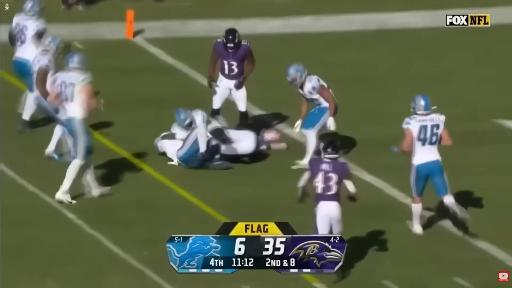Helmet: (38, 36, 63, 59), (287, 63, 307, 86), (154, 132, 175, 152), (223, 28, 241, 50), (411, 95, 431, 114), (321, 140, 340, 158), (66, 52, 86, 69), (41, 35, 62, 51), (175, 108, 191, 127), (22, 0, 41, 16), (154, 132, 169, 152), (45, 37, 61, 46)
Jersey: (403, 114, 445, 165), (52, 70, 92, 118), (309, 158, 350, 203), (12, 13, 46, 61), (214, 40, 251, 79), (171, 110, 217, 139), (299, 75, 330, 106), (32, 49, 55, 89), (158, 139, 183, 164), (171, 123, 191, 139)
Player: (393, 95, 468, 234), (49, 52, 109, 203), (298, 141, 356, 234), (287, 64, 337, 168), (9, 0, 46, 131), (208, 28, 255, 127), (155, 109, 230, 169), (33, 37, 69, 160), (207, 120, 286, 158), (209, 127, 286, 160), (32, 37, 62, 118), (221, 129, 287, 158)
